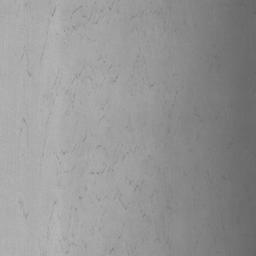Silk spot: (90, 165, 114, 175)
